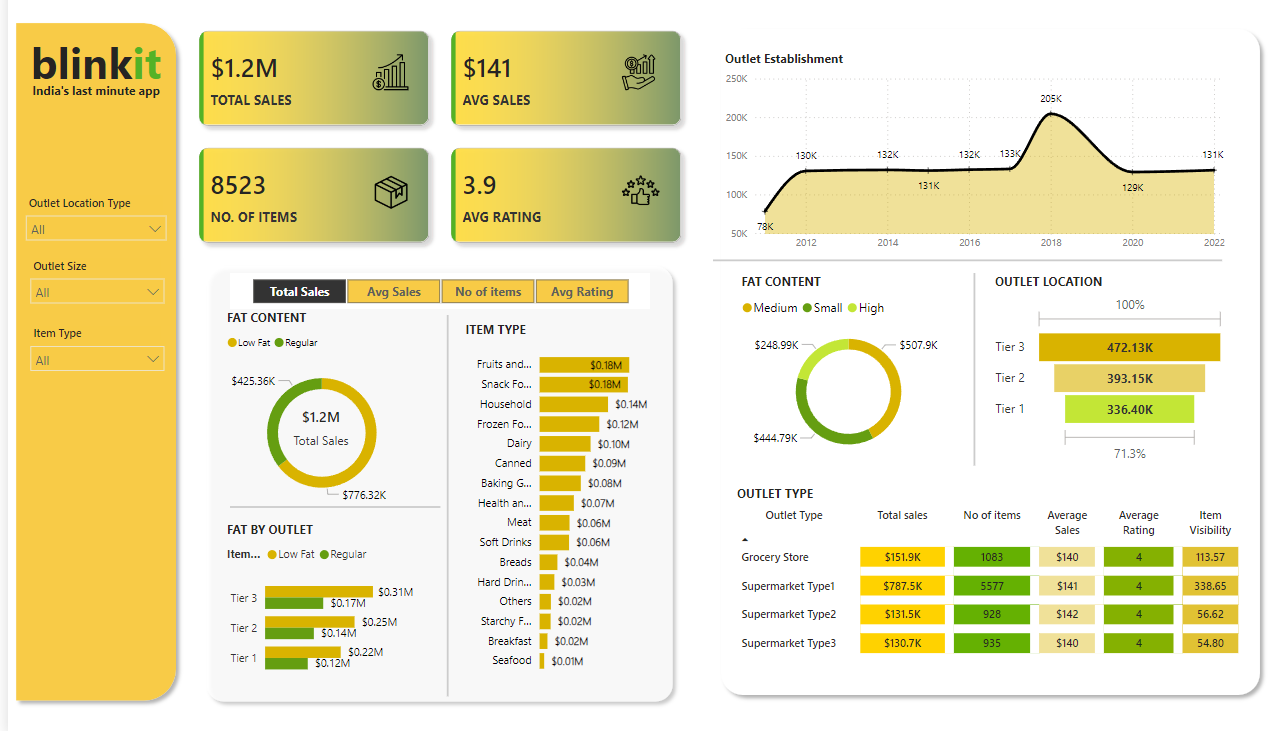

What the dashboard file says about the page in this screenshot:
{"tool":"powerbi","page":{"name":"Page 1","canvas":[1408,830],"ordinal":0},"visuals":[{"type":"shape","box":[0,30,195.7,771],"z":0},{"type":"textbox","box":[10,42.9,175.7,74.3],"z":1000},{"type":"textbox","box":[10,98.6,175.7,37.1],"z":2000},{"type":"cardVisual","fields":{"Data":["BlinkIT Grocery Data.Total sales","BlinkIT Grocery Data.Average Sales","BlinkIT Grocery Data.Total no.of items","BlinkIT Grocery Data.average rating"]},"box":[195.6,30,570,270],"z":3000},{"type":"image","box":[392.2,67.8,66.7,50],"z":4000},{"type":"image","box":[670,67.8,61.1,50],"z":5000},{"type":"image","box":[394.4,202.2,61.1,50],"z":6000},{"type":"image","box":[670,196.7,66,55],"z":7000},{"type":"shape","box":[212,300,536,502],"z":8000},{"type":"donutChart","title":"FAT CONTENT","fields":{"Y":["BlinkIT Grocery Data.Total sales"],"Category":["BlinkIT Grocery Data.Item Fat Content"]},"box":[238.3,356.7,220,230],"z":9000},{"type":"slicer","fields":{"Values":["Metric .Metric "]},"box":[246.7,316.7,466.7,40],"z":10000},{"type":"card","fields":{"Values":["BlinkIT Grocery Data.Total sales"]},"box":[270,441.7,155,90],"z":11000},{"type":"clusteredBarChart","title":"FAT BY OUTLET","fields":{"Y":["BlinkIT Grocery Data.Total sales"],"Category":["BlinkIT Grocery Data.Outlet Location Type"],"Series":["BlinkIT Grocery Data.Item Fat Content"]},"box":[238.3,591.7,216.7,185],"z":12000},{"type":"shape","box":[246.2,561.2,233.8,30],"z":13000},{"type":"shape","box":[471.2,363.8,33.8,423.8],"z":14000},{"type":"barChart","title":"ITEM TYPE","fields":{"Y":["BlinkIT Grocery Data.Total sales"],"Category":["BlinkIT Grocery Data.Item Type"]},"box":[502.5,370,227.5,400],"z":15000},{"type":"shape","box":[783.3,36.7,616.7,757.8],"z":16000},{"type":"lineChart","title":" Outlet Establishment","fields":{"Category":["BlinkIT Grocery Data.Outlet Establishment Year"],"Y":["Sum(BlinkIT Grocery Data.Sales)"]},"box":[791.7,68.3,565,231.7],"z":17000},{"type":"donutChart","title":"FAT CONTENT","fields":{"Y":["BlinkIT Grocery Data.Total sales"],"Category":["BlinkIT Grocery Data.Outlet Size"]},"box":[810,317.1,247.1,215.7],"z":18000},{"type":"shape","box":[1057.1,317.1,34.3,214.3],"z":19000},{"type":"shape","box":[782.9,288.6,565.7,28.6],"z":20000},{"type":"funnel","title":"OUTLET LOCATION","fields":{"Category":["BlinkIT Grocery Data.Outlet Location Type"],"Y":["Sum(BlinkIT Grocery Data.Sales)"]},"box":[1091.7,316.7,265,215],"z":21000},{"type":"pivotTable","title":"OUTLET TYPE","fields":{"Rows":["BlinkIT Grocery Data.Outlet Type"],"Values":["BlinkIT Grocery Data.Total sales","BlinkIT Grocery Data.Total no.of items","BlinkIT Grocery Data.Average Sales","BlinkIT Grocery Data.Average Rating","Sum(BlinkIT Grocery Data.Item Visibility)"]},"box":[805,551.7,575,218.3],"z":21001},{"type":"slicer","fields":{"Values":["BlinkIT Grocery Data.Outlet Location Type"]},"box":[10,224.3,175.7,64.3],"z":21002},{"type":"slicer","fields":{"Values":["BlinkIT Grocery Data.Outlet Size"]},"box":[14.3,295.7,168.6,68.6],"z":21003},{"type":"slicer","fields":{"Values":["BlinkIT Grocery Data.Item Type"]},"box":[14.3,370,168.6,70],"z":21004}]}

Visuals, with their boxes in screenshot pixels (x1, y1, x2, y2), scaled from the page's 1408x830 canvas onto the 1275x731 screenshot:
shape: bbox(0, 26, 177, 705)
textbox: bbox(9, 38, 168, 103)
textbox: bbox(9, 87, 168, 120)
cardVisual - BlinkIT Grocery Data.Total sales x BlinkIT Grocery Data.Average Sales: bbox(177, 26, 693, 264)
image: bbox(355, 60, 416, 104)
image: bbox(607, 60, 662, 104)
image: bbox(357, 178, 412, 222)
image: bbox(607, 173, 666, 222)
shape: bbox(192, 264, 677, 706)
"FAT CONTENT" donutChart: bbox(216, 314, 415, 517)
slicer - Metric .Metric : bbox(223, 279, 646, 314)
card - BlinkIT Grocery Data.Total sales: bbox(244, 389, 385, 468)
"FAT BY OUTLET" clusteredBarChart: bbox(216, 521, 412, 684)
shape: bbox(223, 494, 435, 521)
shape: bbox(427, 320, 457, 694)
"ITEM TYPE" barChart: bbox(455, 326, 661, 678)
shape: bbox(709, 32, 1268, 700)
" Outlet Establishment" lineChart: bbox(717, 60, 1229, 264)
"FAT CONTENT" donutChart: bbox(733, 279, 957, 469)
shape: bbox(957, 279, 988, 468)
shape: bbox(709, 254, 1221, 279)
"OUTLET LOCATION" funnel: bbox(989, 279, 1229, 468)
"OUTLET TYPE" pivotTable: bbox(729, 486, 1250, 678)
slicer - BlinkIT Grocery Data.Outlet Location Type: bbox(9, 198, 168, 254)
slicer - BlinkIT Grocery Data.Outlet Size: bbox(13, 260, 166, 321)
slicer - BlinkIT Grocery Data.Item Type: bbox(13, 326, 166, 388)
